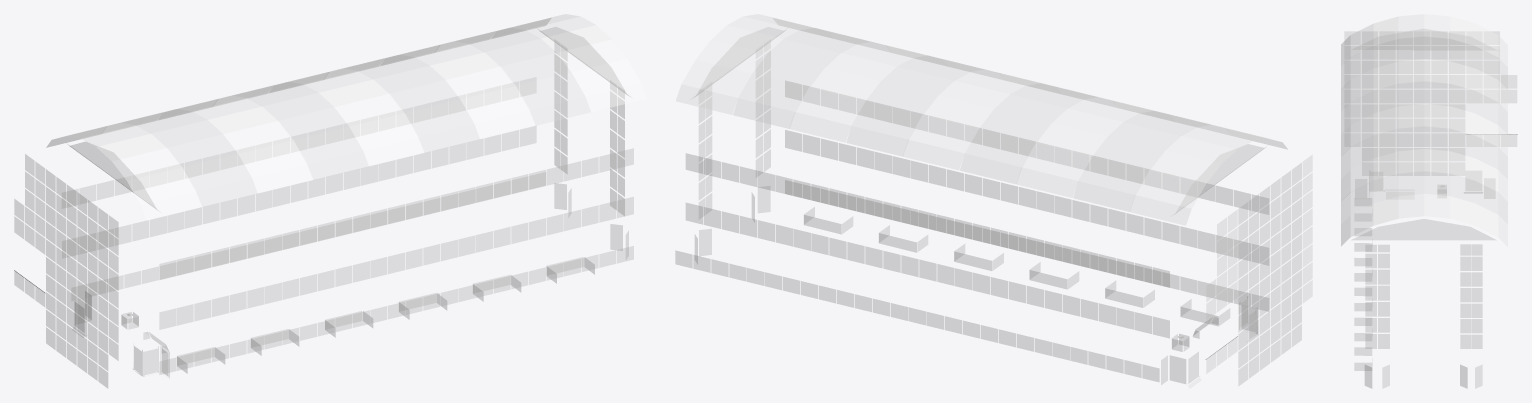
Rendered from AllGlass.obj.
3 renders of one model, left to right at view 1: azimuth 30°, elevation 25°; view 2: azimuth 150°, elevation 25°; view 3: azimuth 270°, elevation 25°, orthographic. The views are drawn at different scales.
Visible parts, largest first — view 1: LabGlass, RoofPlaneDirty, RoofPlaneClean, BackGlass, EntranceWallGlass, KioskGlass.001, Railing.001Glass; view 2: LabGlass, RoofPlaneDirty, RoofPlaneClean, BackGlass, EntranceWallGlass, KioskGlass.001, Railing.002Glass, Railing.003Glass, Railing.001Glass, Railing.Glass, Railing.004Glass, Railing.005Glass; view 3: RoofPlaneDirty, RoofPlaneClean, BackGlass, EntranceWallGlass, KioskGlass.001, Railing.Glass, Railing.003Glass, Railing.004Glass, Railing.001Glass, Railing.002Glass, Railing.005Glass, KioskGlass.
Boxes of the visible parts, bbox=[...] form: LabGlass: bbox=[62, 77, 633, 374]; RoofPlaneDirty: bbox=[46, 14, 646, 220]; RoofPlaneClean: bbox=[69, 27, 628, 209]; BackGlass: bbox=[14, 154, 118, 387]; EntranceWallGlass: bbox=[554, 43, 628, 258]; KioskGlass.001: bbox=[72, 291, 169, 378]; Railing.001Glass: bbox=[473, 275, 520, 301]; LabGlass: bbox=[675, 81, 1268, 381]; RoofPlaneDirty: bbox=[676, 14, 1287, 225]; RoofPlaneClean: bbox=[693, 27, 1265, 214]; BackGlass: bbox=[1205, 155, 1312, 385]; EntranceWallGlass: bbox=[695, 42, 770, 263]; KioskGlass.001: bbox=[1161, 296, 1257, 388]; Railing.002Glass: bbox=[954, 244, 1003, 270]; Railing.003Glass: bbox=[1029, 262, 1078, 288]; Railing.001Glass: bbox=[879, 225, 927, 252]; Railing.Glass: bbox=[804, 207, 852, 233]; Railing.004Glass: bbox=[1105, 281, 1154, 307]; Railing.005Glass: bbox=[1180, 299, 1229, 325]; RoofPlaneDirty: bbox=[1341, 14, 1507, 246]; RoofPlaneClean: bbox=[1341, 29, 1507, 239]; BackGlass: bbox=[1344, 31, 1517, 175]; EntranceWallGlass: bbox=[1365, 244, 1482, 388]; KioskGlass.001: bbox=[1355, 171, 1494, 198]; Railing.Glass: bbox=[1354, 347, 1372, 370]; Railing.003Glass: bbox=[1354, 258, 1371, 281]; Railing.004Glass: bbox=[1354, 228, 1372, 251]; Railing.001Glass: bbox=[1354, 318, 1372, 340]; Railing.002Glass: bbox=[1354, 288, 1371, 310]; Railing.005Glass: bbox=[1355, 198, 1371, 220]; KioskGlass: bbox=[1385, 190, 1413, 198].
Bounding box in the file's own units: 135 × 51.78 × 47.4.
